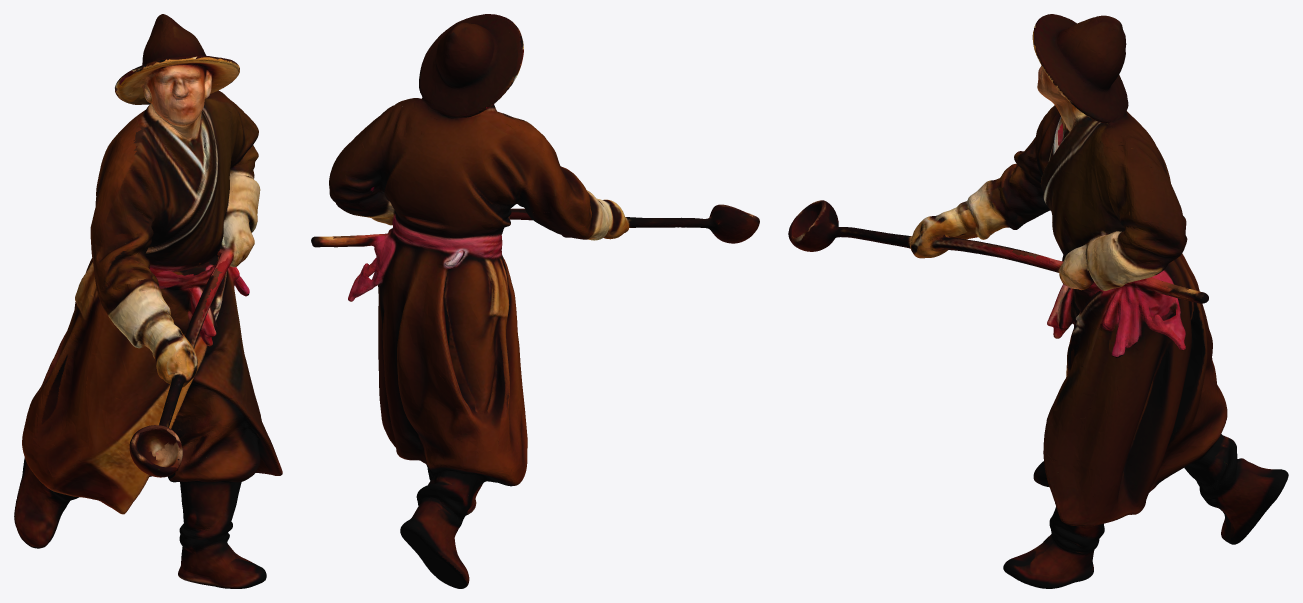
The picture shows the model from 3 angles, left to right: view 1: azimuth 30°, elevation 25°; view 2: azimuth 150°, elevation 25°; view 3: azimuth 270°, elevation 25°; orthographic projection. The views are drawn at different scales.
Visible parts, largest first — view 1: world; view 2: world; view 3: world.
Part boxes in pixels (<box>): world: <box>14,14,282,588</box>; world: <box>311,14,759,588</box>; world: <box>788,14,1288,588</box>.
Size of the model in its own units: 1.1 by 1.99 by 1.62.
1 material, 1 textured.
